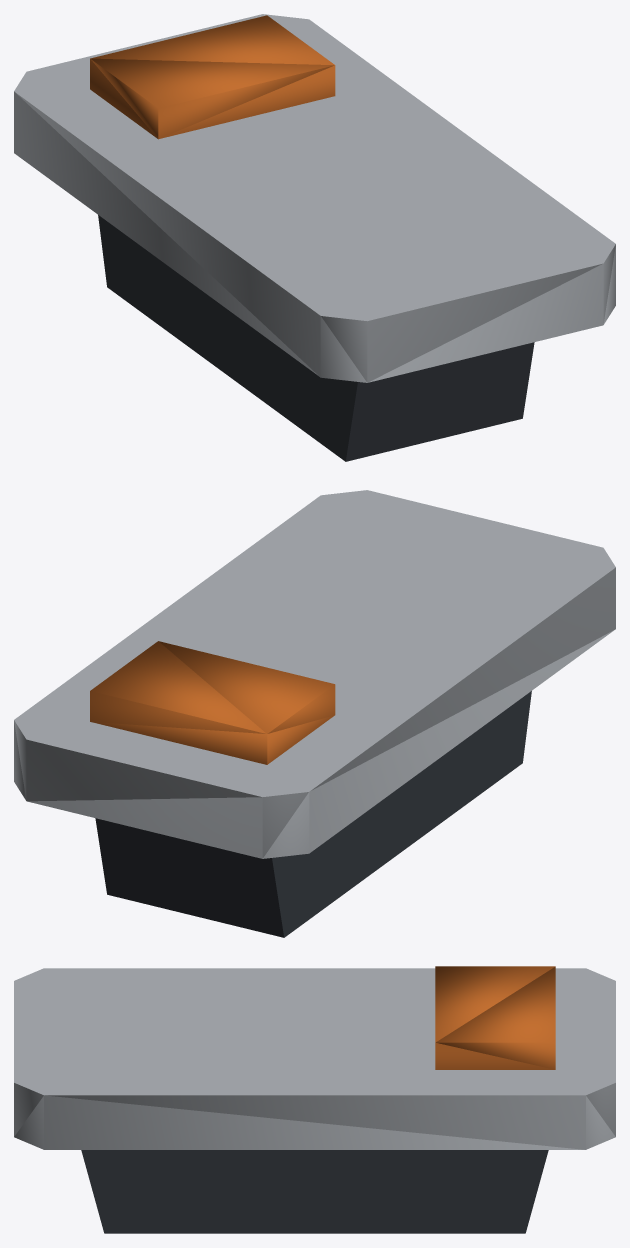
Rendered from Kit_bed-single.fbx.
The picture shows the model from 3 angles, top to bottom: view 1: azimuth 30°, elevation 25°; view 2: azimuth 150°, elevation 25°; view 3: azimuth 270°, elevation 25°; orthographic projection. The views are drawn at different scales.
Parts seen in each view (by area): view 1: Kit_bed-single; view 2: Kit_bed-single; view 3: Kit_bed-single.
Boxes of the visible parts, bbox=[...] form: Kit_bed-single: bbox=[14, 14, 615, 461]; Kit_bed-single: bbox=[14, 490, 615, 937]; Kit_bed-single: bbox=[14, 966, 615, 1233].
Size of the model in its own units: 0.5 by 0.35 by 1.
